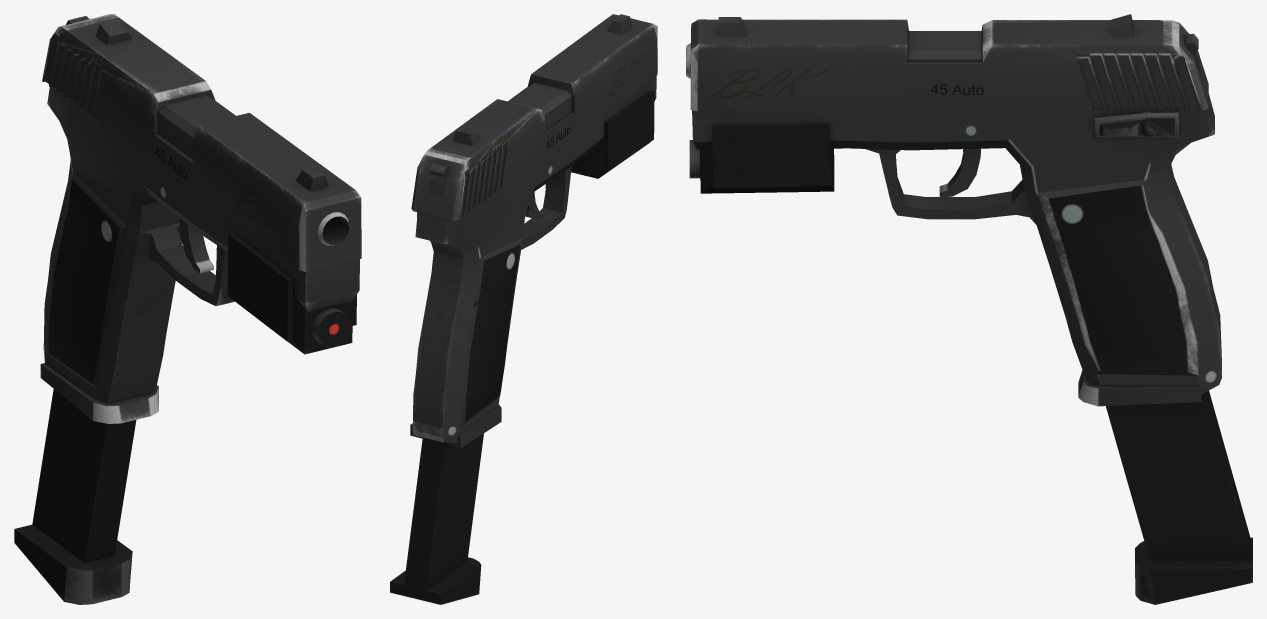
The model's file is Handgun .40.fbx.
The picture shows the model from 3 angles, left to right: view 1: azimuth 30°, elevation 25°; view 2: azimuth 150°, elevation 25°; view 3: azimuth 270°, elevation 25°; orthographic projection. The views are drawn at different scales.
Parts seen in each view (by area): view 1: Body, Top, Large Loader, Laser Sight, Small Loader, Trigger; view 2: Body, Top, Large Loader, Laser Sight, Small Loader; view 3: Body, Top, Large Loader, Laser Sight, Small Loader, Locker, Trigger.
Part boxes in pixels (x1=…): Body: x1=43, y1=16, x2=359, y2=402; Top: x1=42, y1=14, x2=361, y2=271; Large Loader: x1=14, y1=389, x2=136, y2=604; Laser Sight: x1=227, y1=233, x2=356, y2=354; Small Loader: x1=40, y1=363, x2=158, y2=423; Trigger: x1=179, y1=218, x2=213, y2=272; Body: x1=412, y1=76, x2=656, y2=442; Top: x1=411, y1=14, x2=657, y2=220; Large Loader: x1=390, y1=433, x2=483, y2=604; Laser Sight: x1=571, y1=90, x2=654, y2=178; Small Loader: x1=410, y1=404, x2=501, y2=447; Body: x1=686, y1=31, x2=1221, y2=394; Top: x1=690, y1=14, x2=1208, y2=111; Large Loader: x1=1106, y1=390, x2=1252, y2=604; Laser Sight: x1=689, y1=123, x2=834, y2=193; Small Loader: x1=1078, y1=370, x2=1201, y2=406; Locker: x1=1094, y1=111, x2=1178, y2=138; Trigger: x1=939, y1=148, x2=980, y2=197.
Bounding box in the file's own units: 148 × 1041 × 937.
